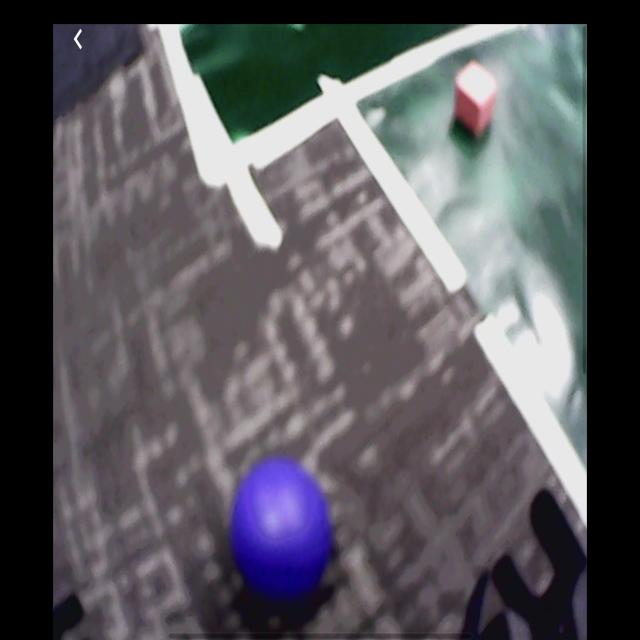ball: (232, 459, 332, 598)
